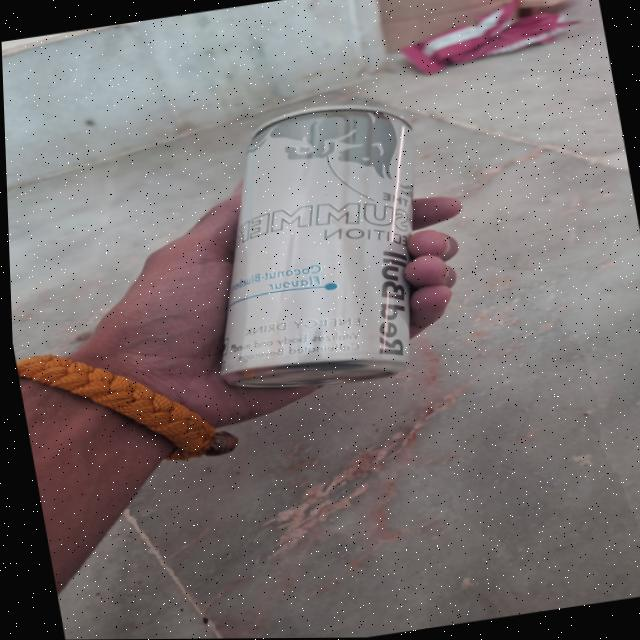Redbull Summer Edition: (165, 88, 479, 397)
